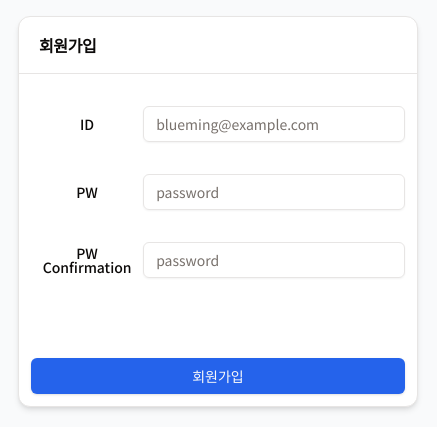
Test: Signup Test › 회원가입 정보 미입력시 validation 출력
Step 1. Click the button with aria-label "button" → x=218, y=376, box [31,358,405,394]
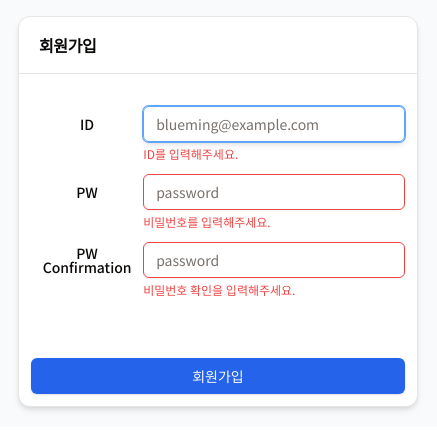
Expected: the text named "id_error_text" reads "ID를 입력해주세요.", [143,145,238,162]
Expected: the text named "password_error_text" reads "비밀번호를 입력해주세요.", [143,213,271,230]
Expected: the text named "check_error_text" reads "비밀번호 확인을 입력해주세요.", [143,281,295,298]
